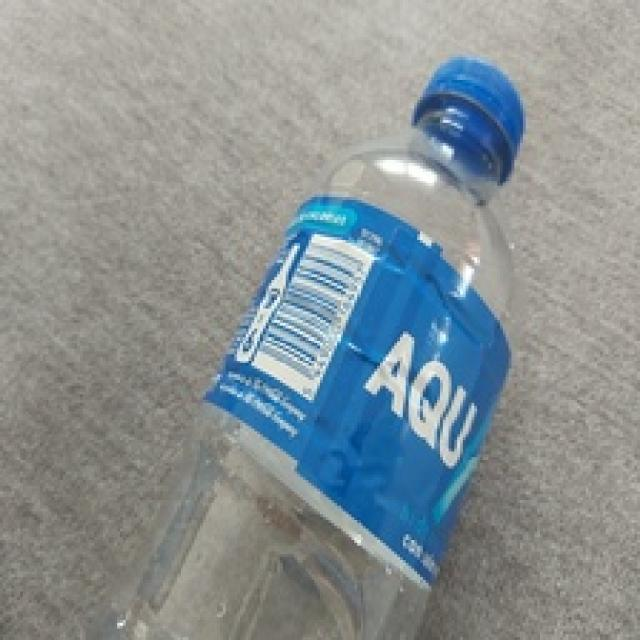Plastic: (106, 51, 525, 640)
